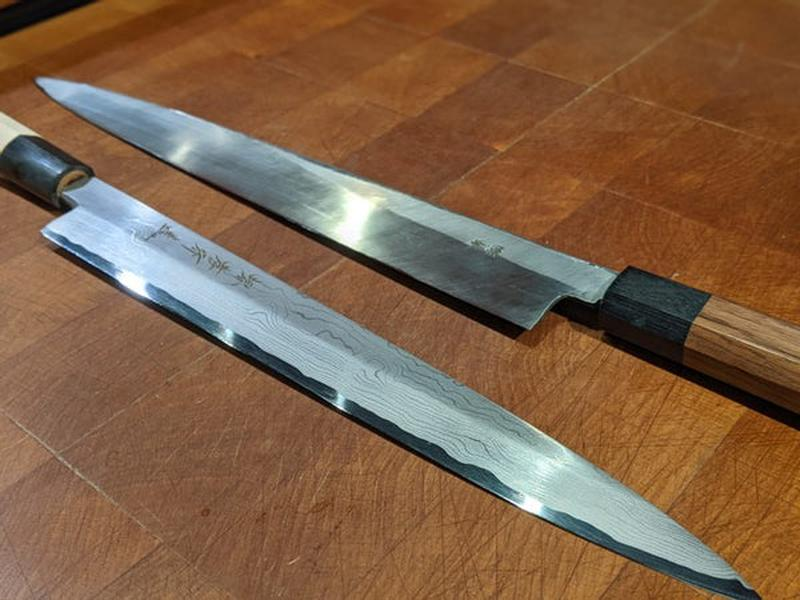KNIFE: (10, 72, 800, 600)
